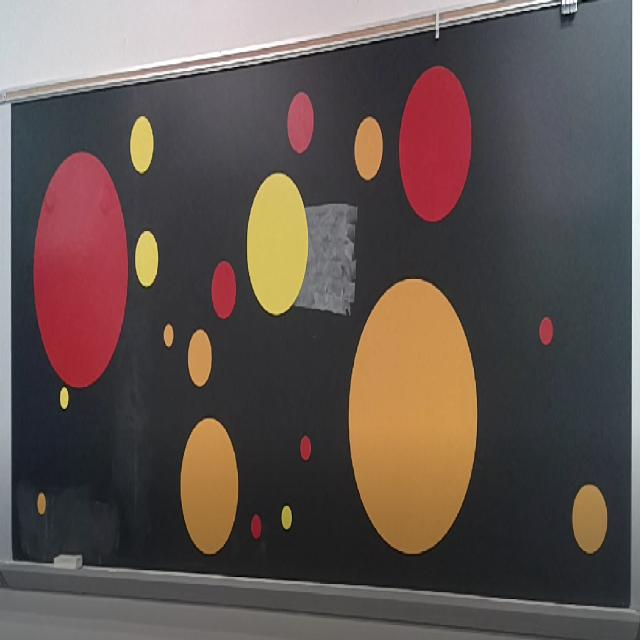Orange: (348, 278, 478, 553), (180, 419, 238, 554), (571, 482, 608, 555), (355, 116, 383, 180), (188, 328, 212, 388), (164, 323, 174, 347), (37, 492, 46, 515)
Red: (34, 151, 128, 387), (399, 65, 472, 222), (287, 92, 314, 153), (211, 262, 236, 320), (540, 316, 554, 346), (250, 515, 262, 540), (300, 435, 310, 460)
Yellow: (247, 173, 308, 315), (130, 115, 154, 173), (135, 230, 159, 286), (282, 505, 292, 530), (59, 387, 69, 409)
